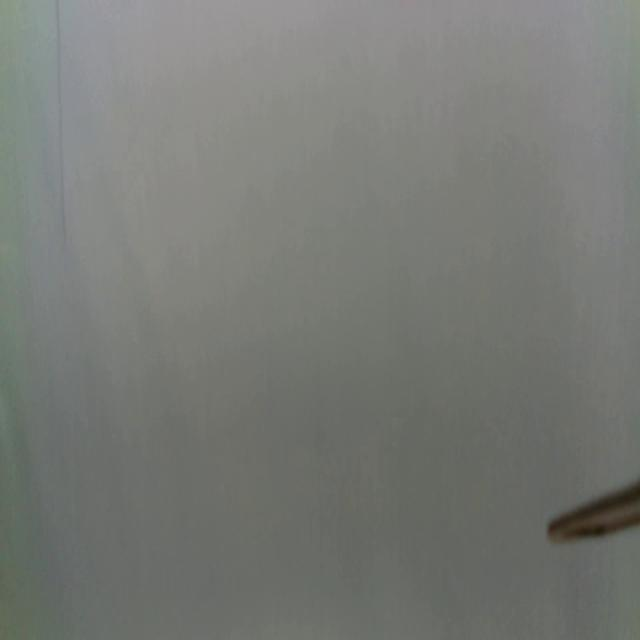crease: (53, 0, 71, 249)
